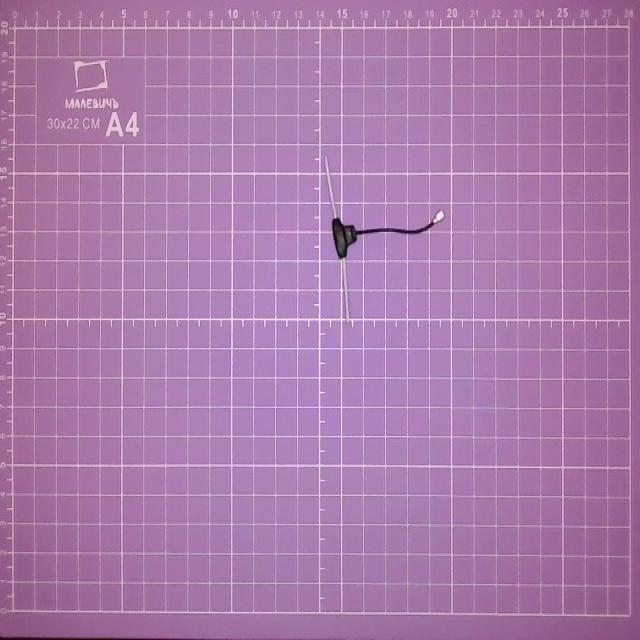antenna: (320, 150, 445, 318)
